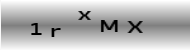1: (29, 22, 42, 35)
M: (99, 19, 118, 33)
X: (126, 19, 144, 33)
r: (50, 27, 62, 37)
x: (76, 9, 91, 20)
